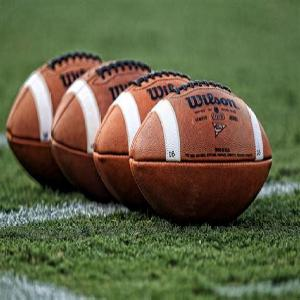Rugby: (127, 79, 272, 226), (92, 68, 196, 222), (49, 58, 156, 204), (3, 49, 105, 192)
